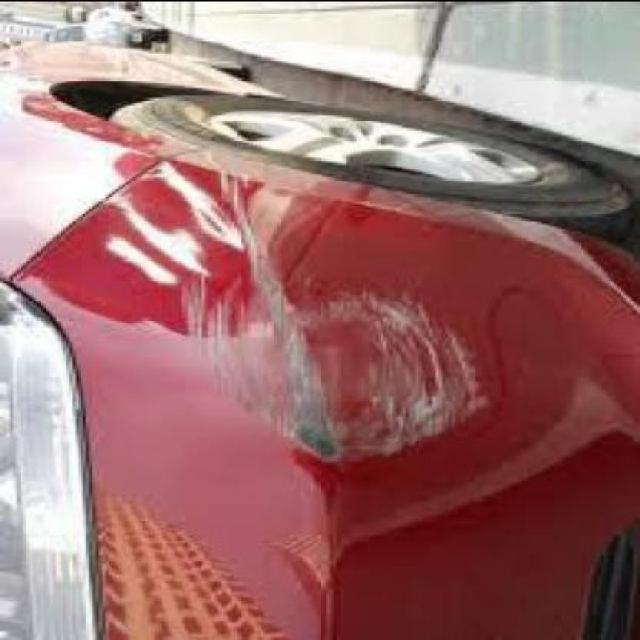damage: (178, 274, 498, 462)
